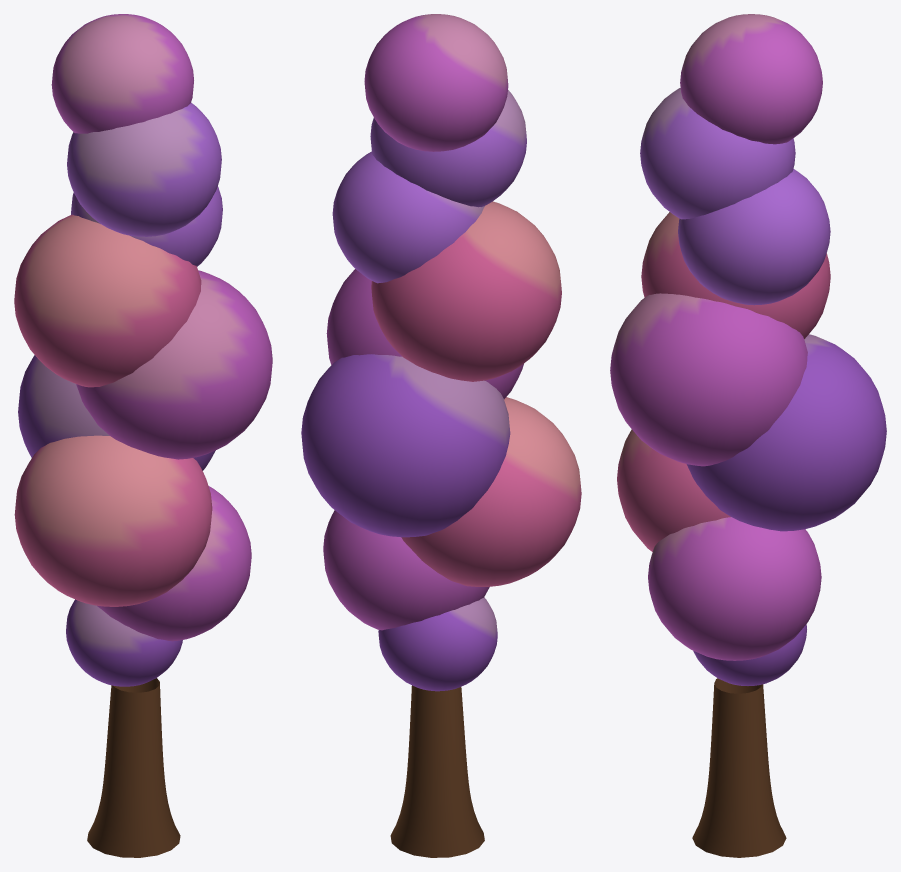
Rendered from tall-tree-103.obj.
The picture shows the model from 3 angles, left to right: view 1: azimuth 30°, elevation 25°; view 2: azimuth 150°, elevation 25°; view 3: azimuth 270°, elevation 25°; orthographic projection.
Parts seen in each view (by area): view 1: tree; view 2: tree; view 3: tree.
Boxes of the visible parts, x1,y1,x2,y2 form: tree: (14, 14, 272, 857); tree: (301, 14, 581, 857); tree: (610, 14, 886, 857).
Bounding box in the file's own units: 209 × 711 × 219.
